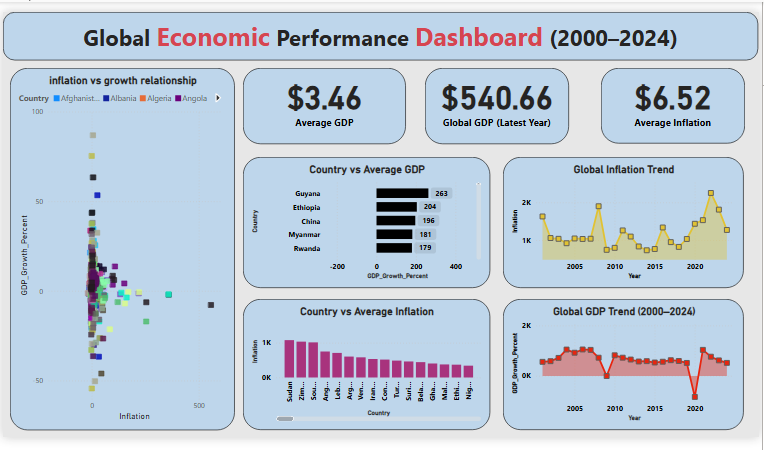

What the dashboard file says about the page in this screenshot:
{"tool":"powerbi","page":{"name":"Page 1","canvas":[1280,720],"ordinal":0},"visuals":[{"type":"textbox","box":[0,0,1280,82.3],"z":0},{"type":"card","fields":{"Values":["cleaned_global_gdp_inflation_2000_2024.Average GDP"]},"box":[406.8,94.9,276.3,128.8],"z":1000},{"type":"card","fields":{"Values":["cleaned_global_gdp_inflation_2000_2024.Average Inflation"]},"box":[1012.9,95.7,243.6,127.7],"z":2000},{"type":"card","fields":{"Values":["cleaned_global_gdp_inflation_2000_2024.Latest GDP"]},"box":[715.3,94.9,244.1,128.8],"z":3000},{"type":"lineChart","title":"Global GDP Trend (2000–2024)","fields":{"Category":["cleaned_global_gdp_inflation_2000_2024.Year.Variation.Date Hierarchy.Year"],"Y":["Sum(cleaned_global_gdp_inflation_2000_2024.GDP_Growth_Percent)"]},"box":[847.5,486.4,408.5,222],"z":4000},{"type":"lineChart","title":"Global Inflation Trend","fields":{"Category":["cleaned_global_gdp_inflation_2000_2024.Year.Variation.Date Hierarchy.Year"],"Y":["Sum(cleaned_global_gdp_inflation_2000_2024.Inflation)"]},"box":[847.5,245.8,408.5,222],"z":4001},{"type":"clusteredBarChart","title":"Country vs Average GDP","fields":{"Category":["cleaned_global_gdp_inflation_2000_2024.Country"],"Y":["Sum(cleaned_global_gdp_inflation_2000_2024.GDP_Growth_Percent)"]},"box":[406.8,245.8,418.6,222],"z":4002},{"type":"clusteredColumnChart","title":"Country vs Average Inflation","fields":{"Category":["cleaned_global_gdp_inflation_2000_2024.Country"],"Y":["Sum(cleaned_global_gdp_inflation_2000_2024.Inflation)"]},"box":[406.8,486.4,418.6,222],"z":4003},{"type":"scatterChart","title":"inflation vs growth relationship","fields":{"X":["Sum(cleaned_global_gdp_inflation_2000_2024.Inflation)"],"Category":["cleaned_global_gdp_inflation_2000_2024.GDP_Growth"],"Y":["Sum(cleaned_global_gdp_inflation_2000_2024.GDP_Growth_Percent)"],"Series":["cleaned_global_gdp_inflation_2000_2024.Country"]},"box":[11.9,94.9,381.4,613.6],"z":4004}]}

Visuals, with their boxes in screenshot pixels (x1, y1, x2, y2):
textbox: BBox(2, 10, 755, 58)
card - cleaned_global_gdp_inflation_2000_2024.Average GDP: BBox(241, 66, 404, 142)
card - cleaned_global_gdp_inflation_2000_2024.Average Inflation: BBox(598, 66, 742, 141)
card - cleaned_global_gdp_inflation_2000_2024.Latest GDP: BBox(423, 66, 567, 142)
"Global GDP Trend (2000–2024)" lineChart: BBox(501, 296, 741, 427)
"Global Inflation Trend" lineChart: BBox(501, 155, 741, 285)
"Country vs Average GDP" clusteredBarChart: BBox(241, 155, 488, 285)
"Country vs Average Inflation" clusteredColumnChart: BBox(241, 296, 488, 427)
"inflation vs growth relationship" scatterChart: BBox(9, 66, 233, 427)
